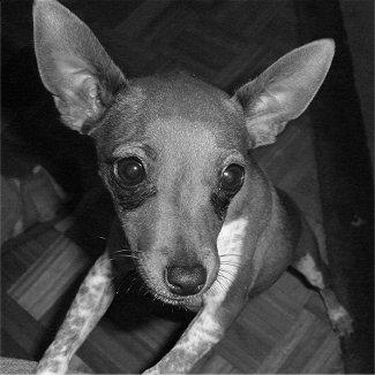dog: (23, 1, 363, 372)
